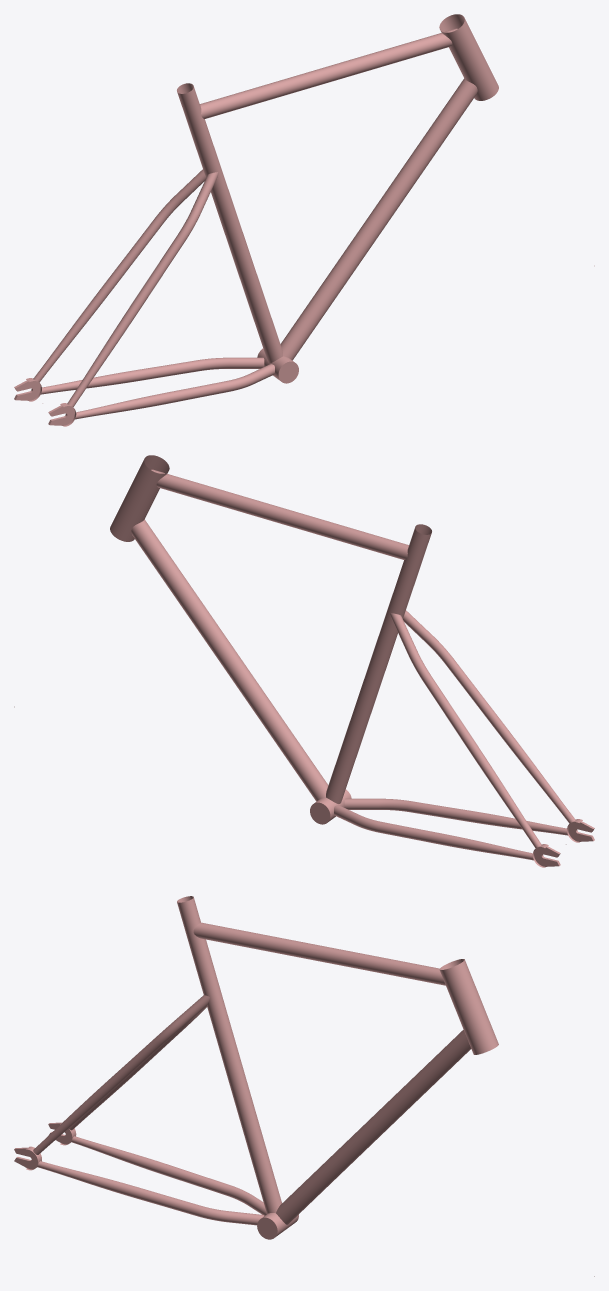
Rendered from Bike Frame.glb.
The picture shows the model from 3 angles, top to bottom: view 1: azimuth 30°, elevation 25°; view 2: azimuth 150°, elevation 25°; view 3: azimuth 330°, elevation 25°; orthographic projection.
Parts seen in each view (by area): view 1: no_transformations; view 2: no_transformations; view 3: no_transformations.
Boxes of the visible parts, x1,y1,x2,y2 form: no_transformations: (14,14,594,426); no_transformations: (14,455,594,867); no_transformations: (14,896,594,1276).
Bounding box in the file's own units: 1047 × 559 × 123.
